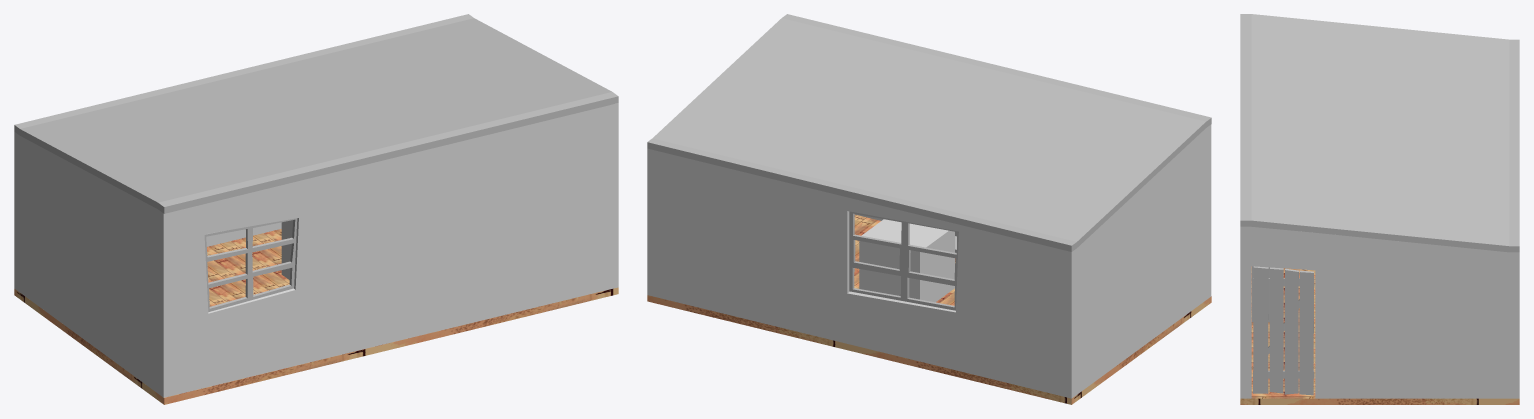
The model's file is Room.fbx.
3 renders of one model, left to right at view 1: azimuth 30°, elevation 25°; view 2: azimuth 150°, elevation 25°; view 3: azimuth 270°, elevation 25°, orthographic. The views are drawn at different scales.
Visible parts, largest first — view 1: Cube, Plane.006, Plane, Plane.007; view 2: Cube, Plane.006, Escala, Plane, Plane.001; view 3: Plane.006, Cube, Plane.002, Plane.
Boxes of the visible parts, bbox=[...] form: Cube: bbox=[14, 103, 618, 397]; Plane.006: bbox=[14, 14, 618, 213]; Plane: bbox=[14, 229, 618, 404]; Plane.007: bbox=[204, 218, 297, 311]; Cube: bbox=[647, 124, 1211, 398]; Plane.006: bbox=[647, 14, 1211, 251]; Escala: bbox=[859, 219, 954, 302]; Plane: bbox=[647, 214, 1211, 404]; Plane.001: bbox=[849, 211, 958, 310]; Plane.006: bbox=[1240, 14, 1519, 252]; Cube: bbox=[1240, 226, 1519, 398]; Plane.002: bbox=[1253, 266, 1313, 395]; Plane: bbox=[1240, 266, 1519, 404].
Bounding box in the file's own units: 700 × 291 × 400.
